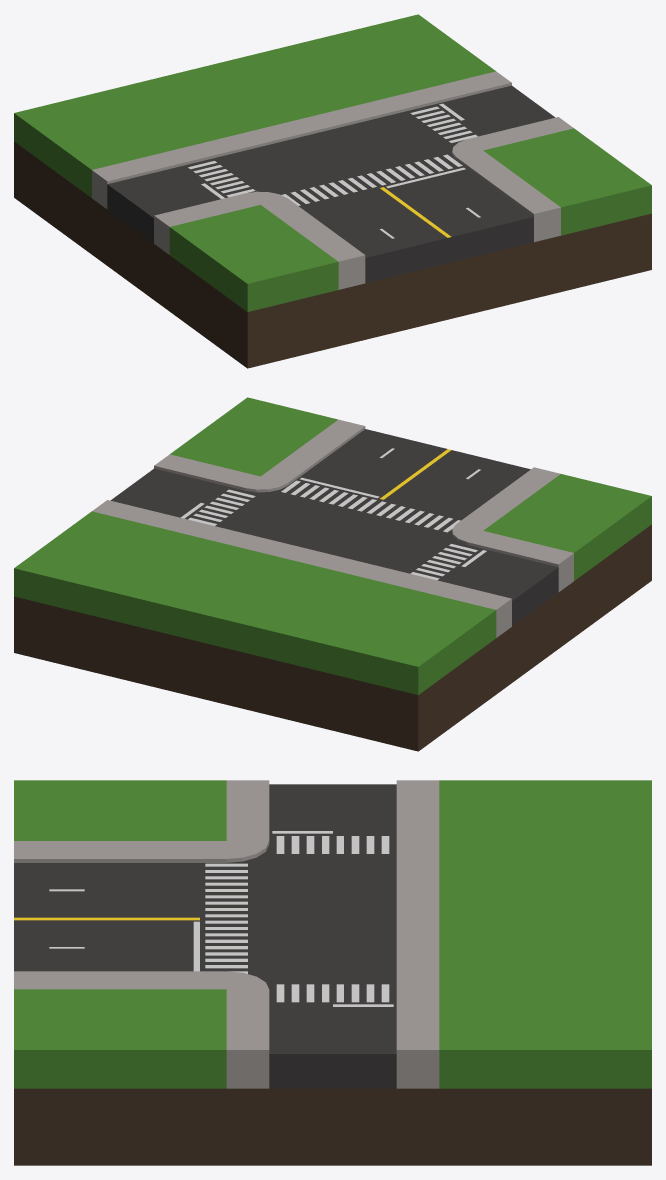
The model's file is tiles_tile-mainroad-road-intersection-t.fbx.
3 renders of one model, top to bottom at view 1: azimuth 30°, elevation 25°; view 2: azimuth 150°, elevation 25°; view 3: azimuth 270°, elevation 25°, orthographic. The views are drawn at different scales.
Parts seen in each view (by area): view 1: tiles_tile_mainroad_road_intersection_t; view 2: tiles_tile_mainroad_road_intersection_t; view 3: tiles_tile_mainroad_road_intersection_t.
Boxes of the visible parts, x1,y1,x2,y2 form: tiles_tile_mainroad_road_intersection_t: [14, 14, 651, 368]; tiles_tile_mainroad_road_intersection_t: [14, 397, 651, 751]; tiles_tile_mainroad_road_intersection_t: [14, 780, 651, 1165].
Bounding box in the file's own units: 200 × 40 × 200.
